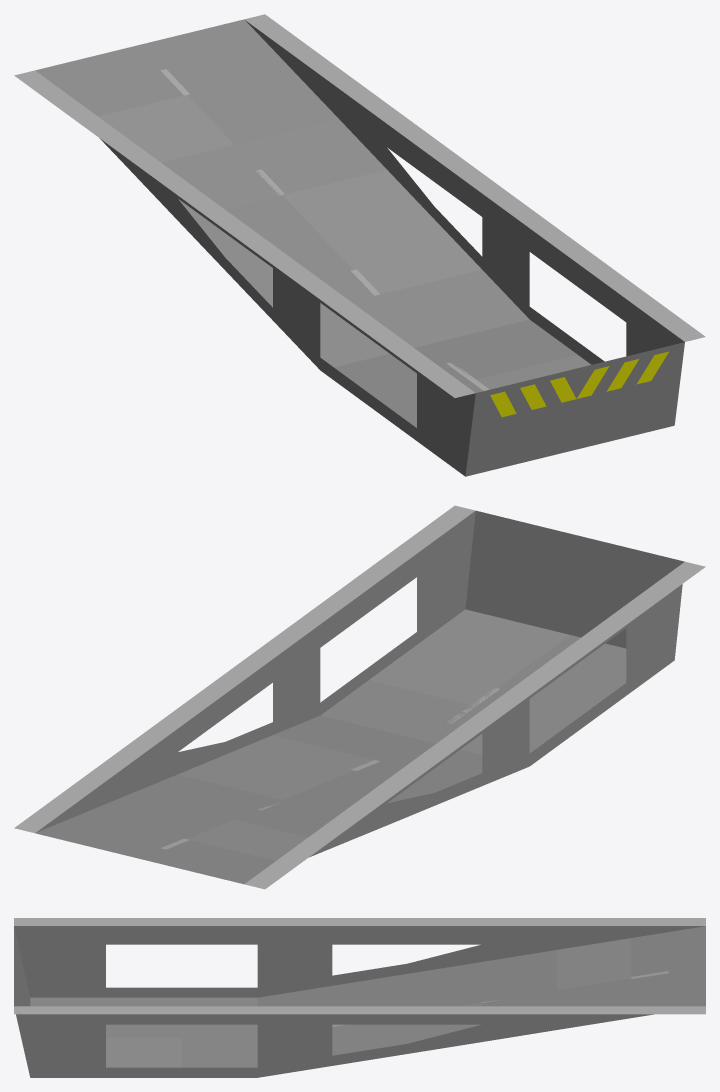
File: prmpw.obj
The picture shows the model from 3 angles, top to bottom: view 1: azimuth 30°, elevation 25°; view 2: azimuth 150°, elevation 25°; view 3: azimuth 270°, elevation 25°; orthographic projection. The views are drawn at different scales.
Size of the model in its own units: 1680 by 583 by 5109.
